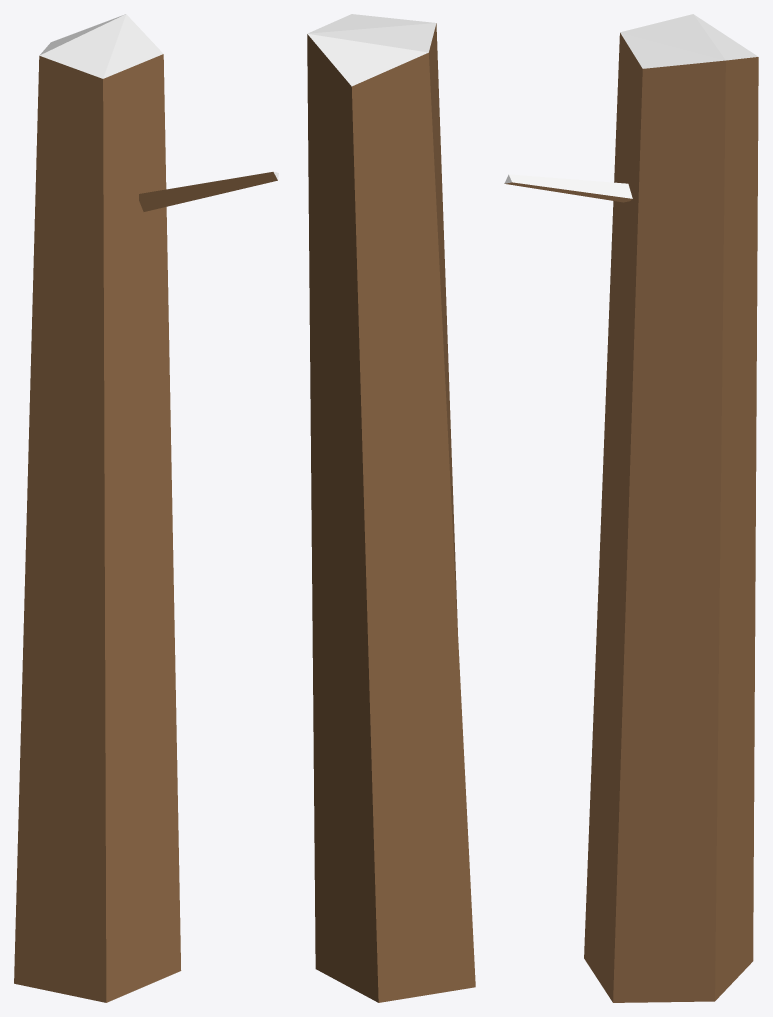
Rendered from Pine_Tree_NoLeaves_crk_l_Snow_03_LOD.fbx.
3 renders of one model, left to right at view 1: azimuth 30°, elevation 25°; view 2: azimuth 150°, elevation 25°; view 3: azimuth 270°, elevation 25°, orthographic. The views are drawn at different scales.
Visible parts, largest first — view 1: Pine_Tree_NoLeaves_crk_l_Snow_03_LOD0; view 2: Pine_Tree_NoLeaves_crk_l_Snow_03_LOD0; view 3: Pine_Tree_NoLeaves_crk_l_Snow_03_LOD0.
Part boxes in pixels (bbox=[...]): Pine_Tree_NoLeaves_crk_l_Snow_03_LOD0: bbox=[14, 14, 278, 1002]; Pine_Tree_NoLeaves_crk_l_Snow_03_LOD0: bbox=[307, 14, 475, 1002]; Pine_Tree_NoLeaves_crk_l_Snow_03_LOD0: bbox=[504, 14, 758, 1002].
Size of what is drawn, in the model's own units: 87.59 by 410 by 100.
